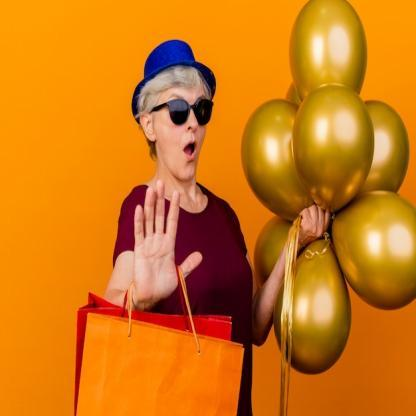stop: (127, 176, 202, 303)
